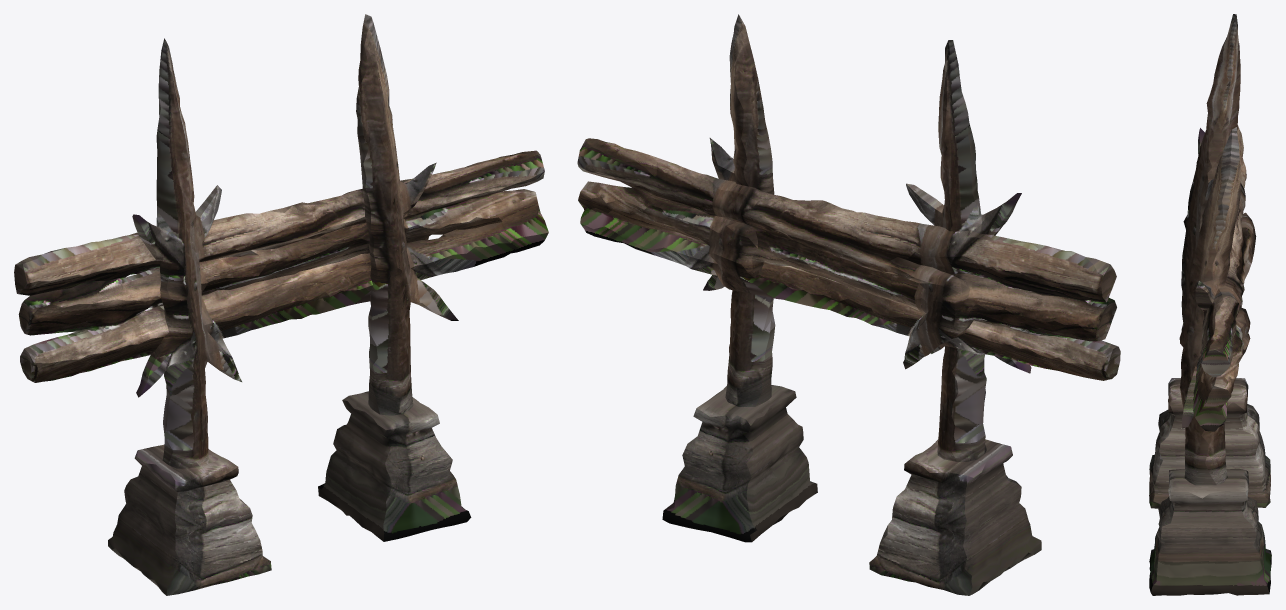
Rendered from barricade.glb.
3 renders of one model, left to right at view 1: azimuth 30°, elevation 25°; view 2: azimuth 150°, elevation 25°; view 3: azimuth 270°, elevation 25°, orthographic. The views are drawn at different scales.
Visible parts, largest first — view 1: geometry_0; view 2: geometry_0; view 3: geometry_0.
Part boxes in pixels (bbox=[...]): geometry_0: bbox=[14, 14, 548, 595]; geometry_0: bbox=[577, 14, 1120, 595]; geometry_0: bbox=[1149, 14, 1271, 595].
Size of the model in its own units: 1.45 by 1.4 by 0.3314.
Materials: 1 (1 with a texture image).
